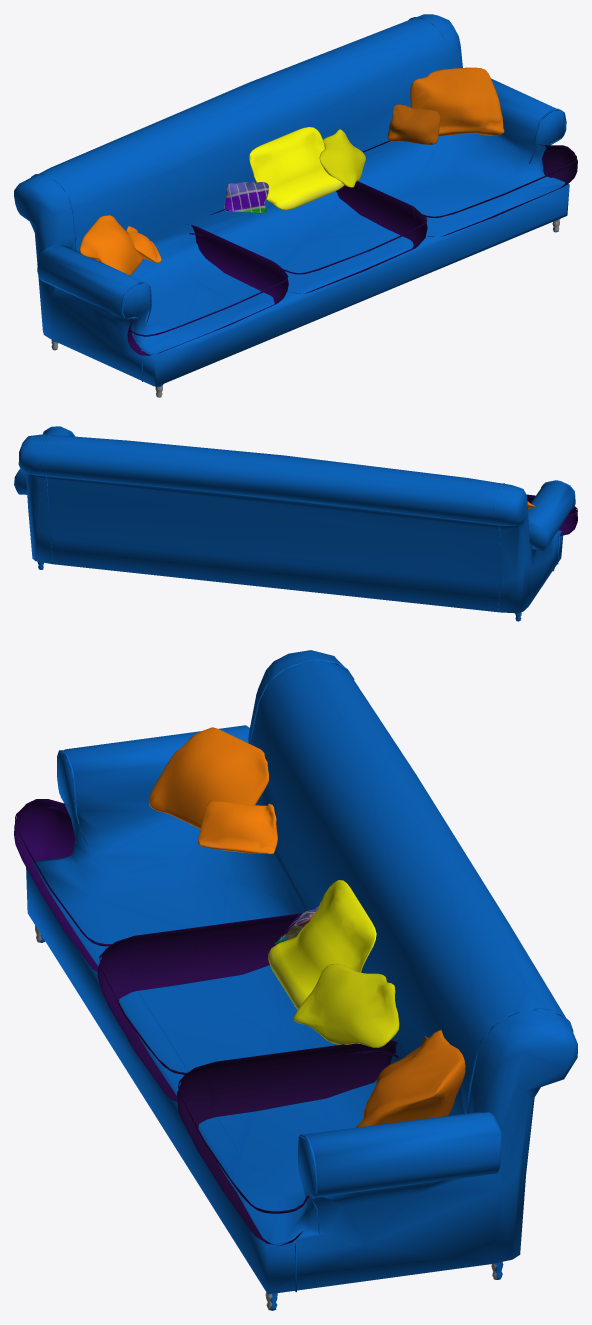
Rendered from sofa.glb.
3 views of the same model, one above another, from view 1: azimuth 30°, elevation 25°; view 2: azimuth 150°, elevation 25°; view 3: azimuth 270°, elevation 25° (orthographic). The views are drawn at different scales.
Visible parts, largest first — view 1: couch, pillow.001, pillow.003, couch cushion.002, couch cushion.001, pillow.004, pillow.006, pillow.002, couch cushion, pillow.007, pillow.005; view 2: couch, couch cushion.002; view 3: couch, couch cushion, couch cushion.001, pillow.004, pillow.003, pillow.002, pillow.001, couch cushion.002, pillow.005.
Boxes of the visible parts, box(x1,y1,x2,y2) form: couch: box(14, 14, 569, 397); pillow.001: box(410, 67, 504, 136); pillow.003: box(249, 127, 344, 210); couch cushion.002: box(127, 224, 288, 355); couch cushion.001: box(210, 181, 427, 293); pillow.004: box(79, 215, 142, 275); pillow.006: box(387, 104, 440, 144); pillow.002: box(319, 129, 365, 187); couch cushion: box(362, 140, 577, 236); pillow.007: box(224, 181, 268, 213); pillow.005: box(126, 226, 161, 262); couch: box(14, 426, 575, 621); couch cushion.002: box(526, 494, 577, 535); couch: box(26, 650, 577, 1310); couch cushion: box(177, 1040, 405, 1245); couch cushion.001: box(97, 913, 383, 1101); pillow.004: box(149, 727, 268, 829); pillow.003: box(268, 880, 376, 1009); pillow.002: box(294, 964, 399, 1047); pillow.001: box(356, 1030, 465, 1127); couch cushion.002: box(14, 799, 111, 971); pillow.005: box(197, 801, 277, 854).
Bounding box in the file's own units: 22.71 × 6.66 × 12.67.
Materials: 1 (1 with a texture image).
